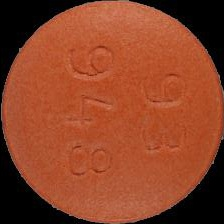33261-038: (0, 0, 224, 224)
